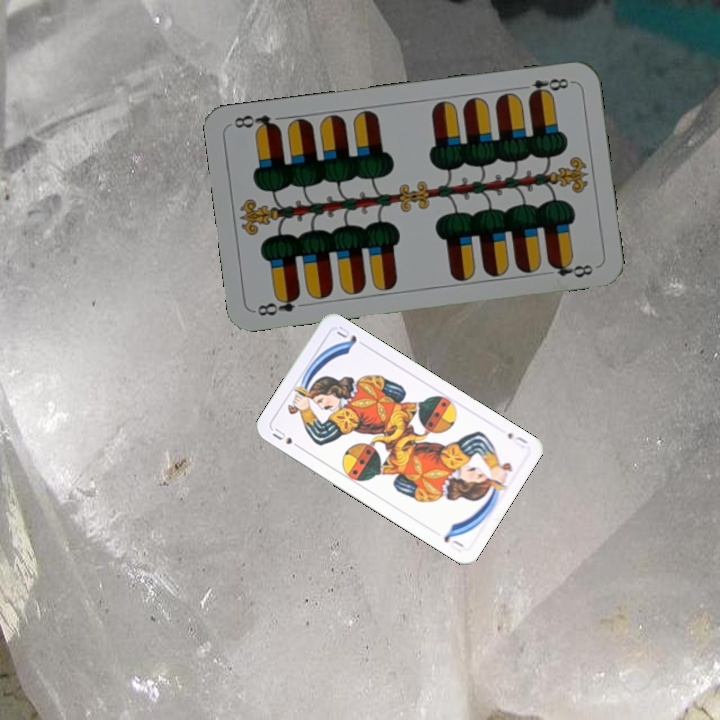E8: (253, 290, 311, 319), (515, 74, 575, 100)
SU: (268, 424, 305, 452), (503, 429, 530, 451)
